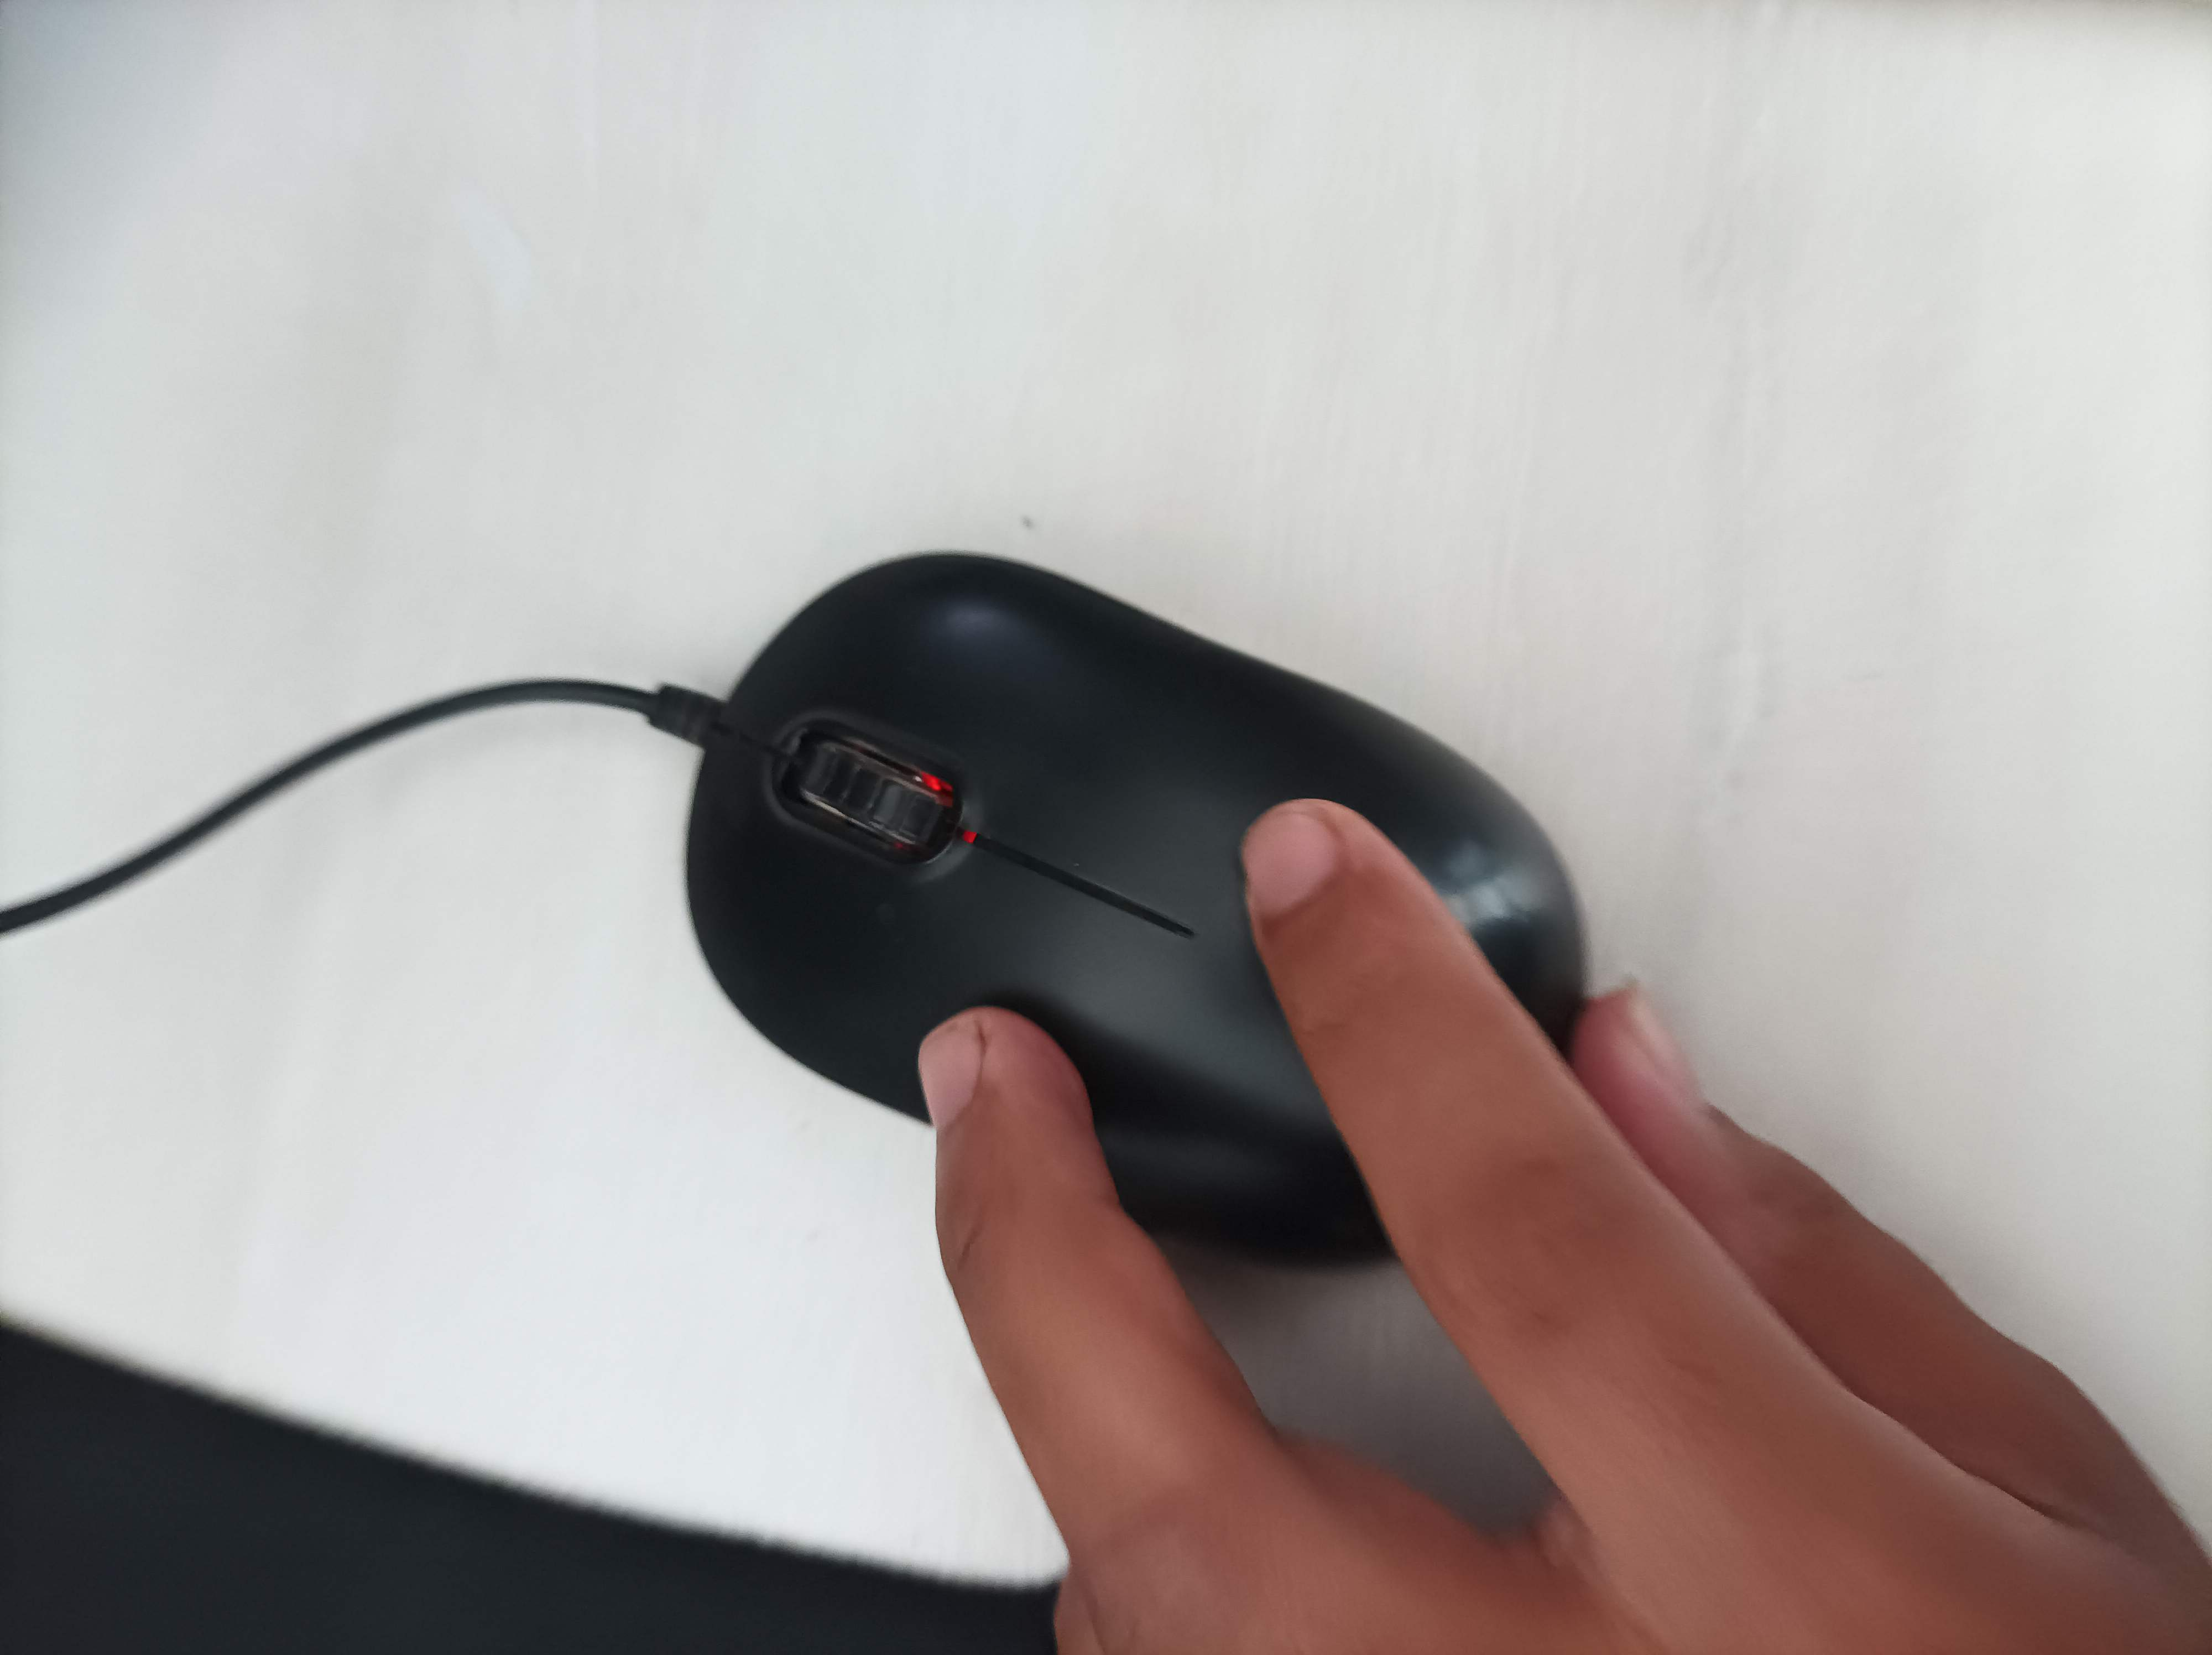mouse: (636, 539, 1609, 1286)
